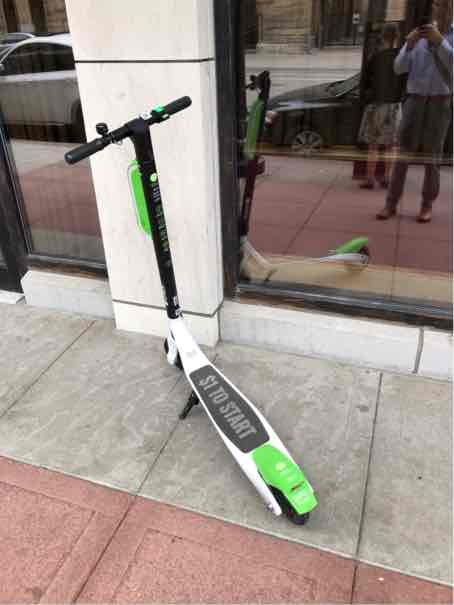scooter: (53, 87, 332, 534)
